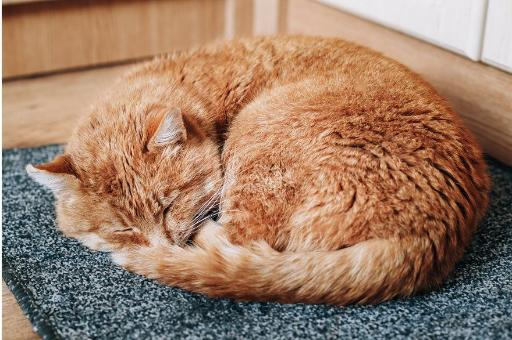cat_sleeping: (26, 35, 490, 305)
